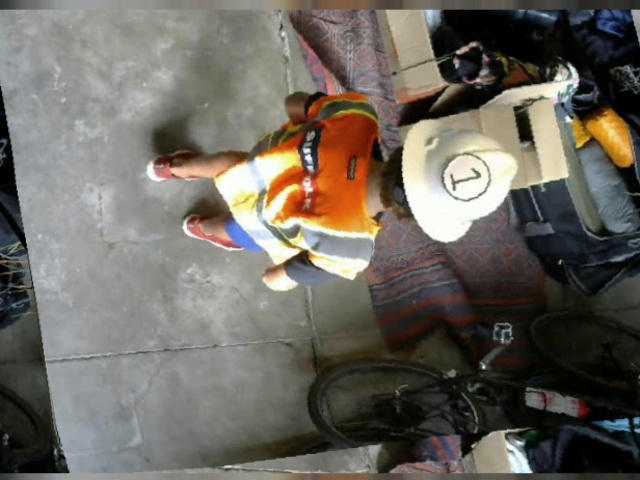one: (438, 150, 494, 203)
